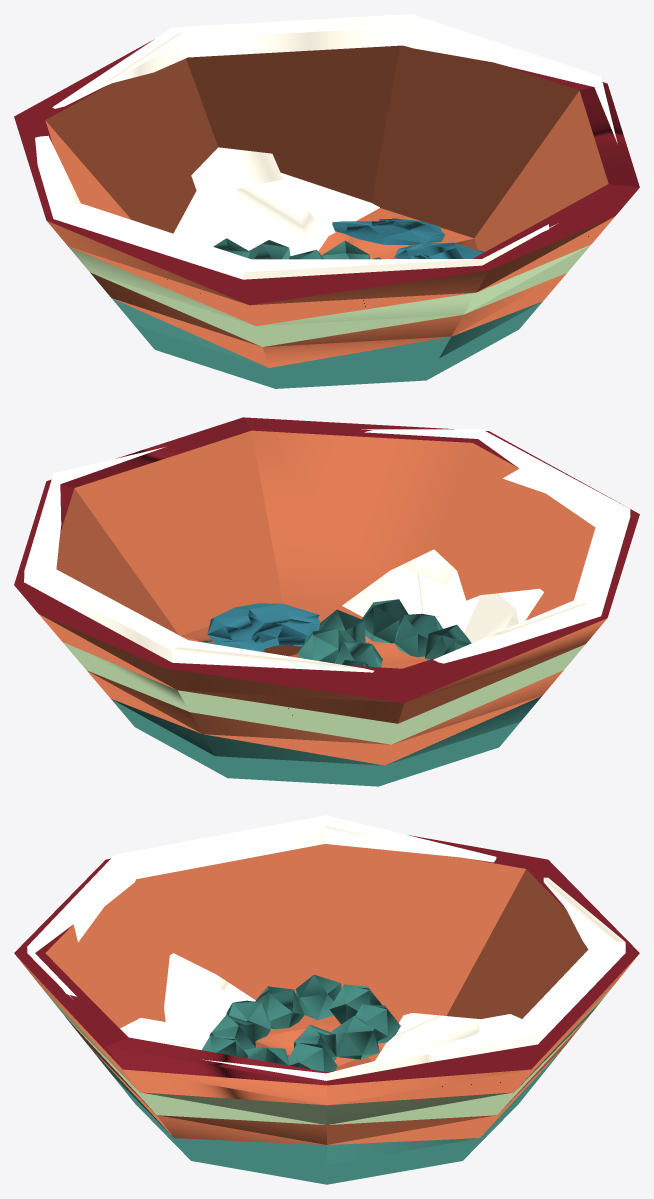
File: OfferingsAsset.fbx
The picture shows the model from 3 angles, top to bottom: view 1: azimuth 30°, elevation 25°; view 2: azimuth 150°, elevation 25°; view 3: azimuth 270°, elevation 25°; orthographic projection. The views are drawn at different scales.
Parts seen in each view (by area): view 1: Offerings; view 2: Offerings; view 3: Offerings.
Boxes of the visible parts, x1,y1,x2,y2 form: Offerings: (14, 14, 639, 388); Offerings: (14, 417, 639, 786); Offerings: (14, 815, 639, 1184).
Size of the model in its own units: 200 by 56.98 by 200.
